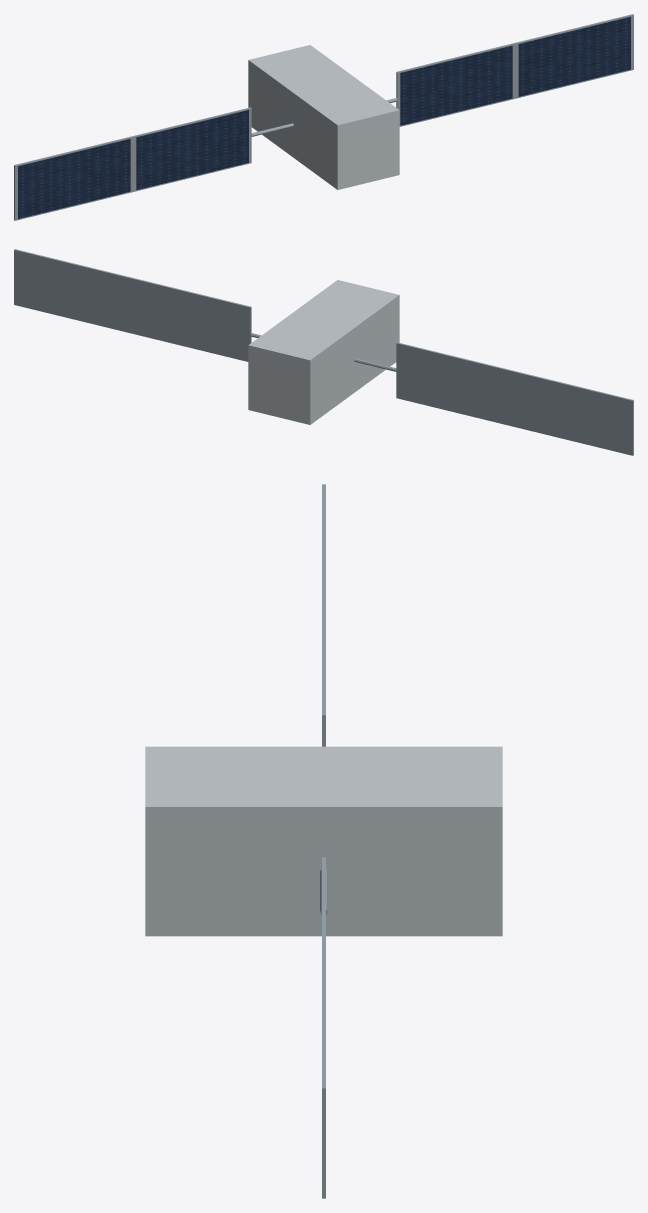
File: ref-hs-601-32378.glb
The picture shows the model from 3 angles, top to bottom: view 1: azimuth 30°, elevation 25°; view 2: azimuth 150°, elevation 25°; view 3: azimuth 270°, elevation 25°; orthographic projection. The views are drawn at different scales.
Parts seen in each view (by area): view 1: Photovoltaic laminates (×4), Spacecraft body, Array frame (×4); view 2: Array frame (×4), Spacecraft body; view 3: Spacecraft body.
Boxes of the visible parts, x1,y1,x2,y2 form: Photovoltaic laminates (×4): [18, 17, 630, 218]; Spacecraft body: [248, 45, 399, 189]; Array frame (×4): [14, 14, 633, 220]; Array frame (×4): [14, 249, 633, 455]; Spacecraft body: [248, 280, 399, 424]; Spacecraft body: [145, 746, 502, 936].
Size of the model in its own units: 20 by 2 by 5.
3 materials, 1 textured.
